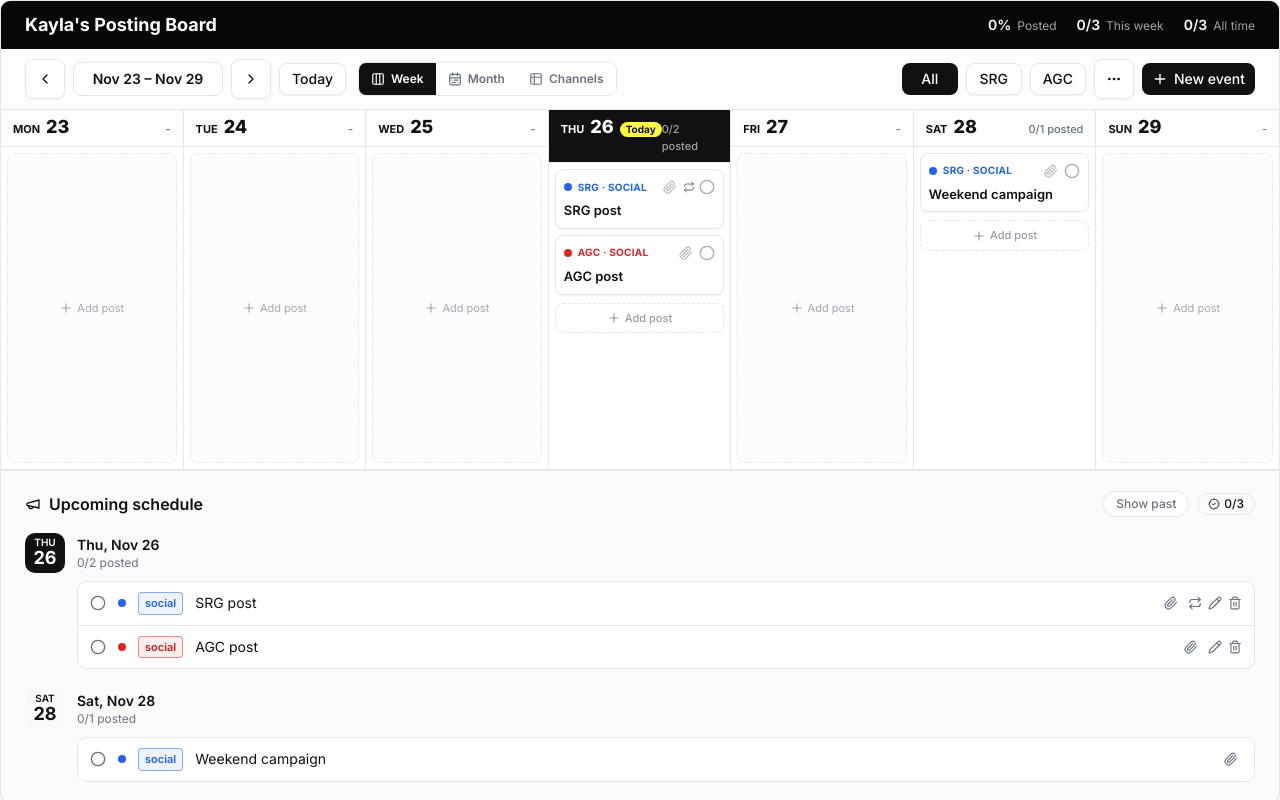
Test case: MarketingCalendar controls › previews exact recurrence dates separately from channel post count
The image size is (1280, 800).
Expected: the heading "Kayla's Posting Board" is shown, [25,11,217,39]
Click the button "New event" at (1198, 79), box [1142,63,1255,95]
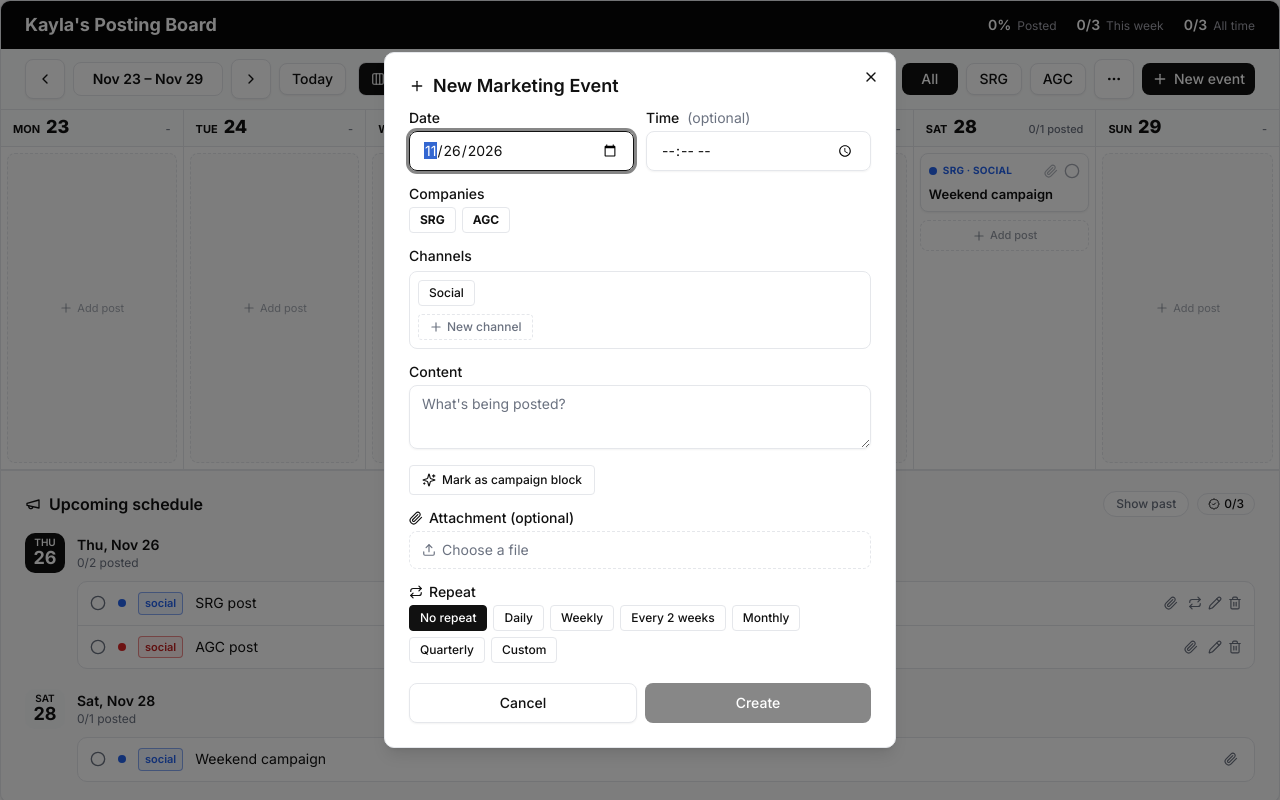
Now the date field is shown
Type "2026-07-31" into the date field at (522, 151), box [409,131,634,171]
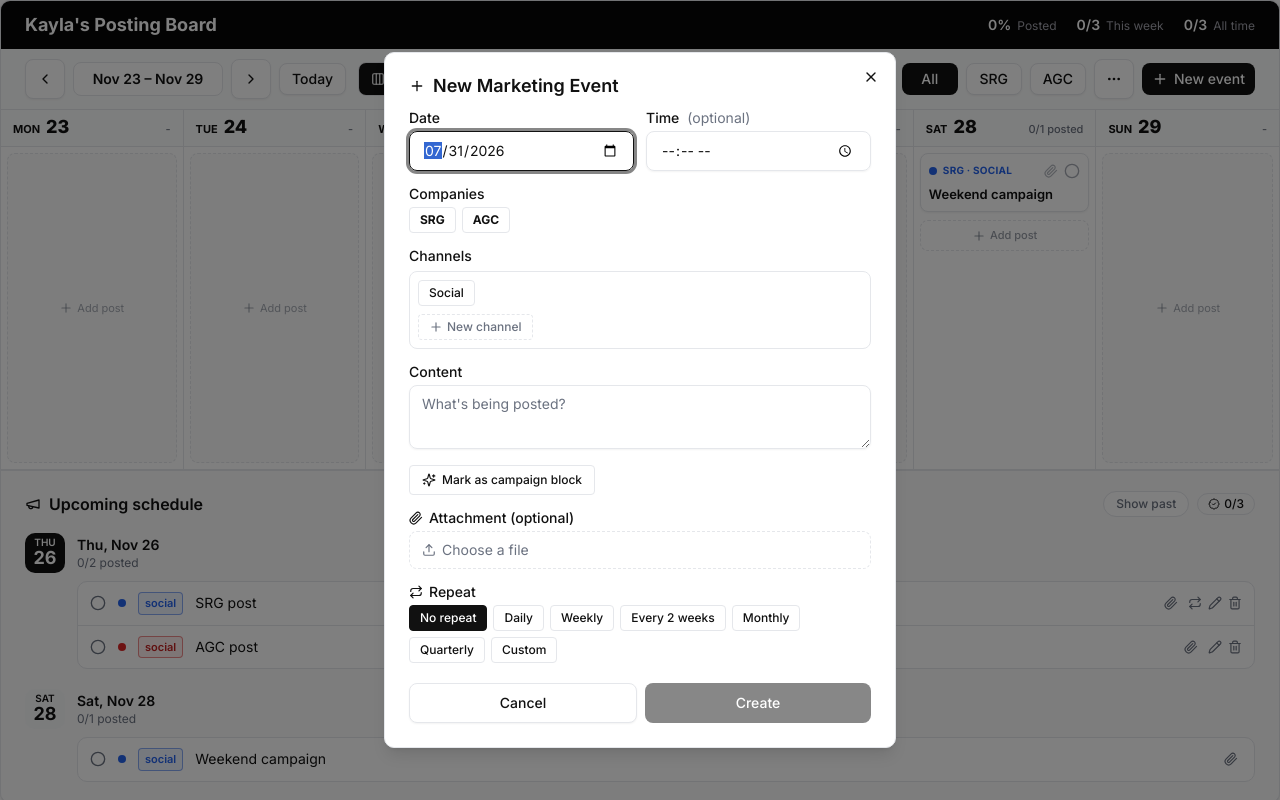
Click the button "Social" at (446, 293), box [418,280,475,306]
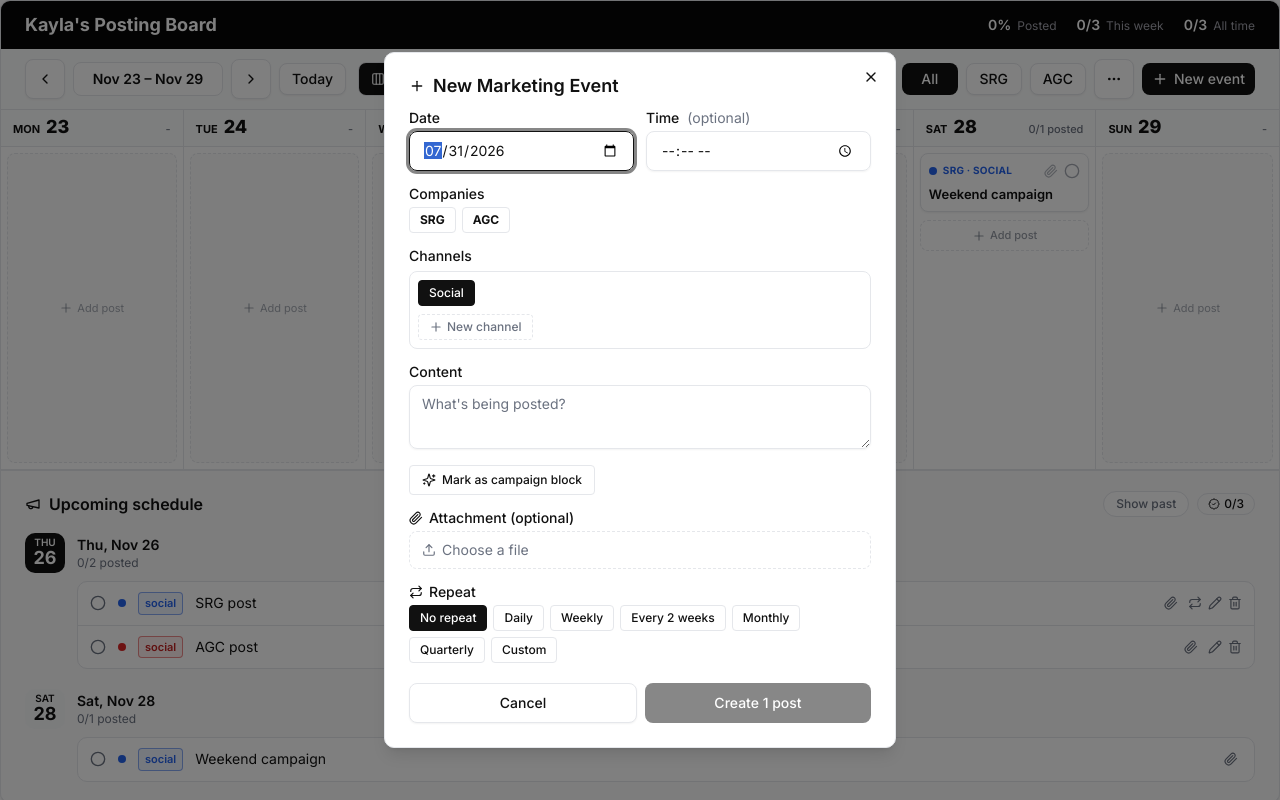
Click the button "Weekly" at (582, 618), box [550,605,614,631]
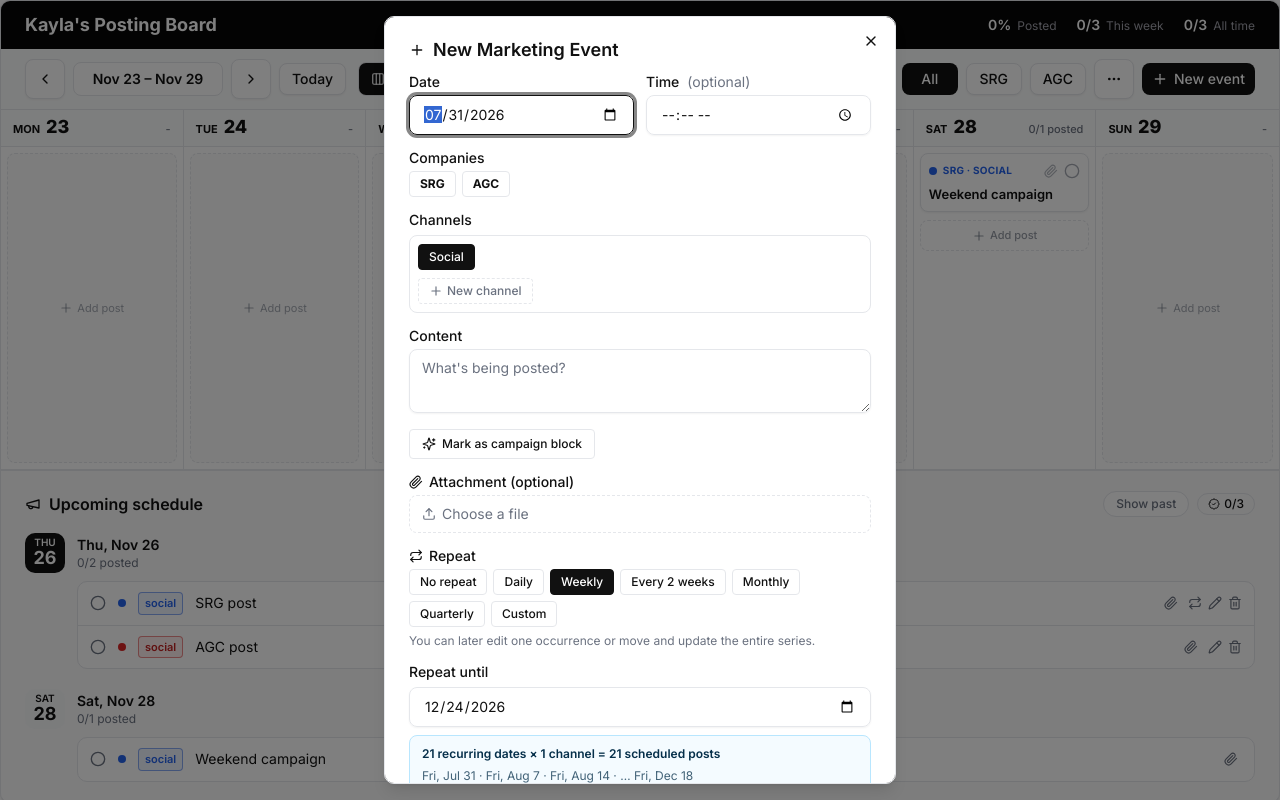
Type "2026-12-31" into the date field below "Repeat until" at (640, 707), box [409,687,871,727]
(page scrolled)
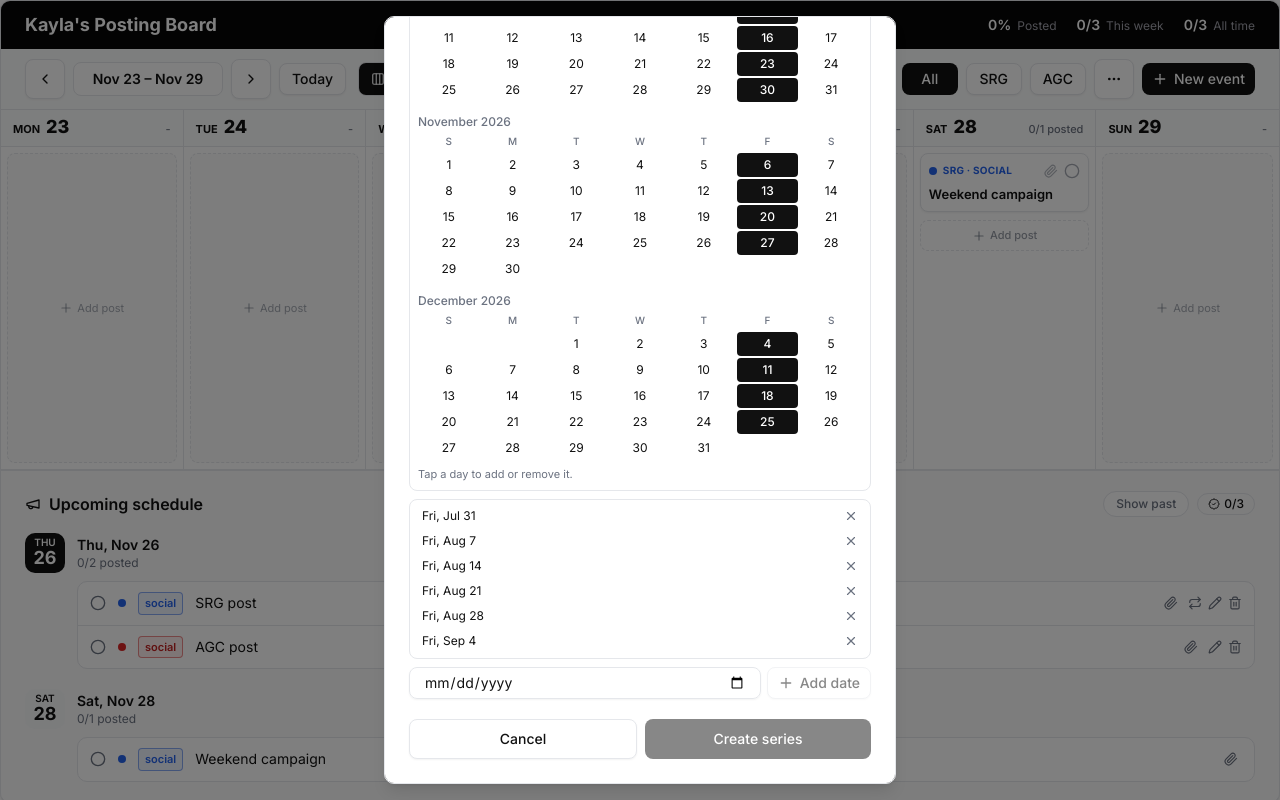
Now the button "Create series" is shown, box [645,719,871,759]
